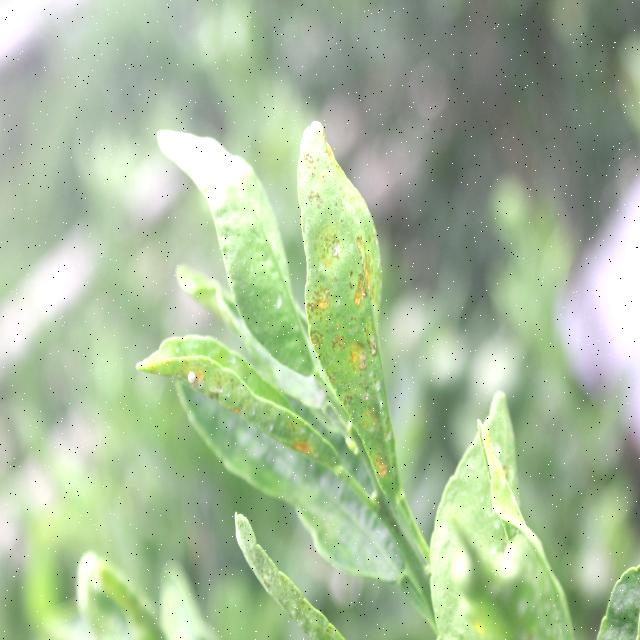canker: (301, 125, 402, 482), (166, 343, 327, 484)
